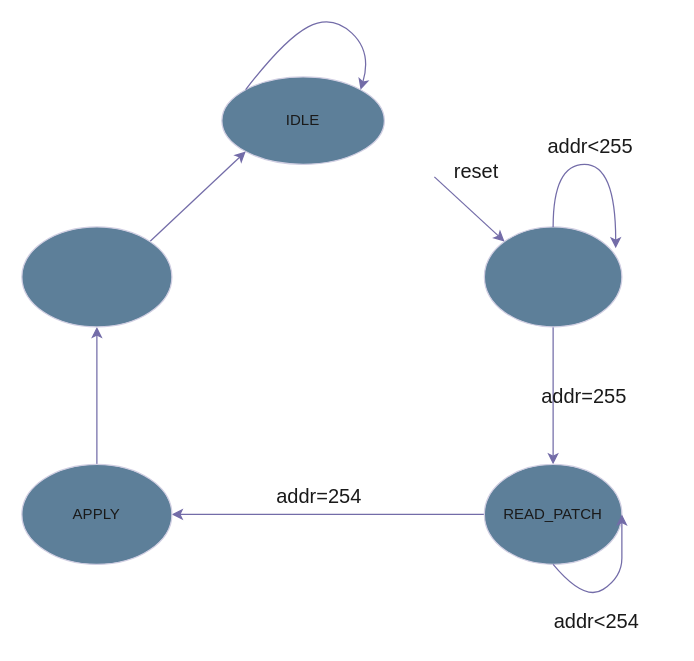
The diagram is 694 pixels wide and 661 high, and some of its shapes have lost their labels. The box of each missing label's shape, as (x1, y1, x2, y2) in pixels:
DONE: (21, 226, 172, 327)
READ_BANK0: (483, 226, 622, 327)
